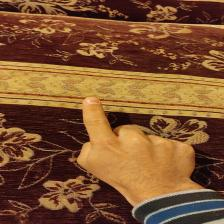one: (68, 94, 206, 192)
